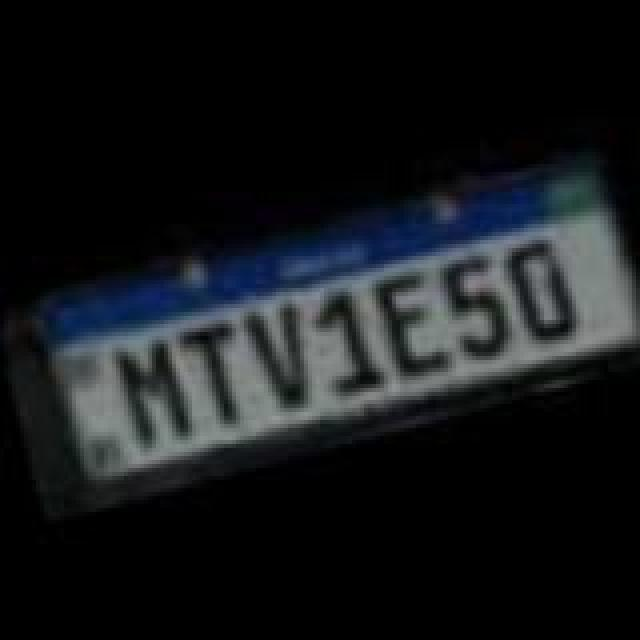1: (308, 280, 384, 400)
5: (432, 244, 516, 368)
D: (496, 228, 580, 352)
E: (368, 264, 452, 384)
M: (106, 330, 194, 450)
T: (174, 316, 262, 432)
V: (238, 294, 326, 418)
